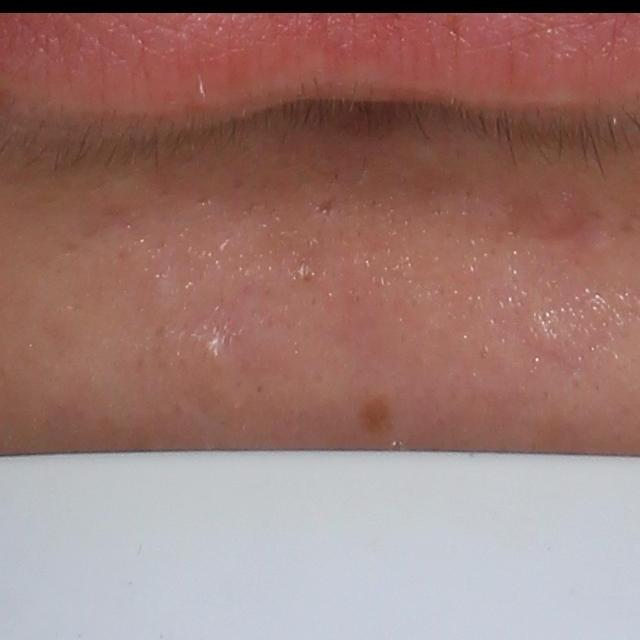atrophic_scar: (312, 190, 343, 218)
